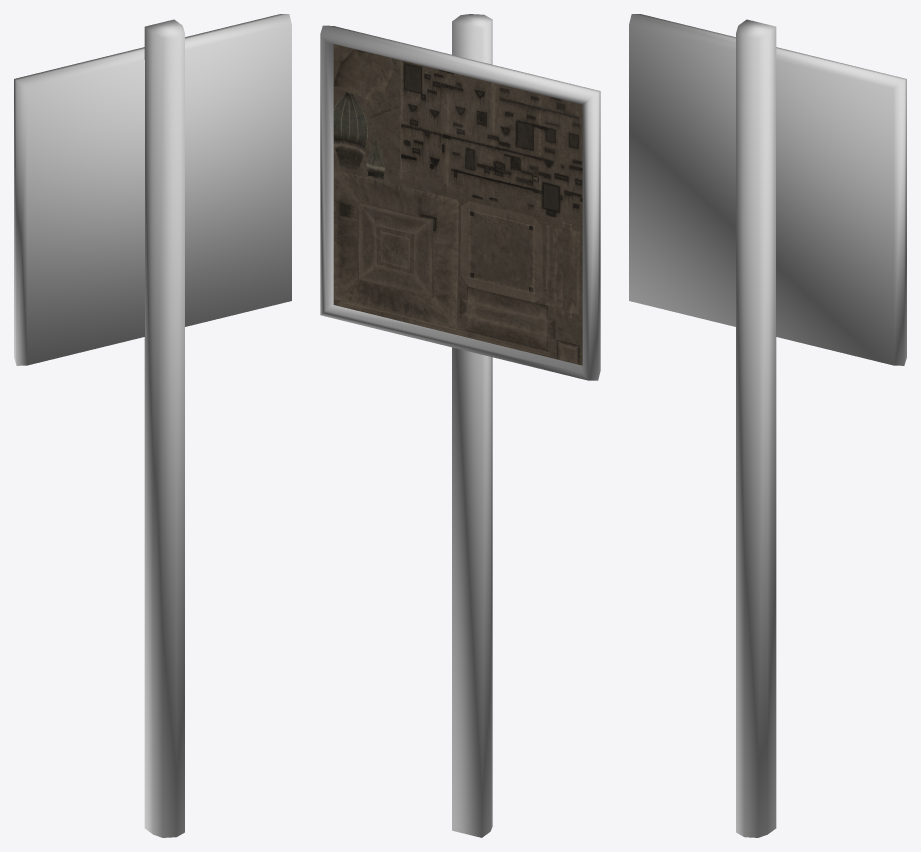
File: KeymapStand.fbx
3 views of the same model, side by side, from view 1: azimuth 30°, elevation 25°; view 2: azimuth 150°, elevation 25°; view 3: azimuth 330°, elevation 25° (orthographic).
Parts seen in each view (by area): view 1: Keymap_Stand; view 2: Keymap, Keymap_Stand; view 3: Keymap_Stand.
Part boxes in pixels (bbox=[...]): Keymap_Stand: bbox=[14, 14, 291, 837]; Keymap: bbox=[333, 44, 582, 365]; Keymap_Stand: bbox=[320, 14, 600, 837]; Keymap_Stand: bbox=[629, 14, 906, 837].
Size of the model in its own units: 0.9707 by 2.73 by 0.1824.
